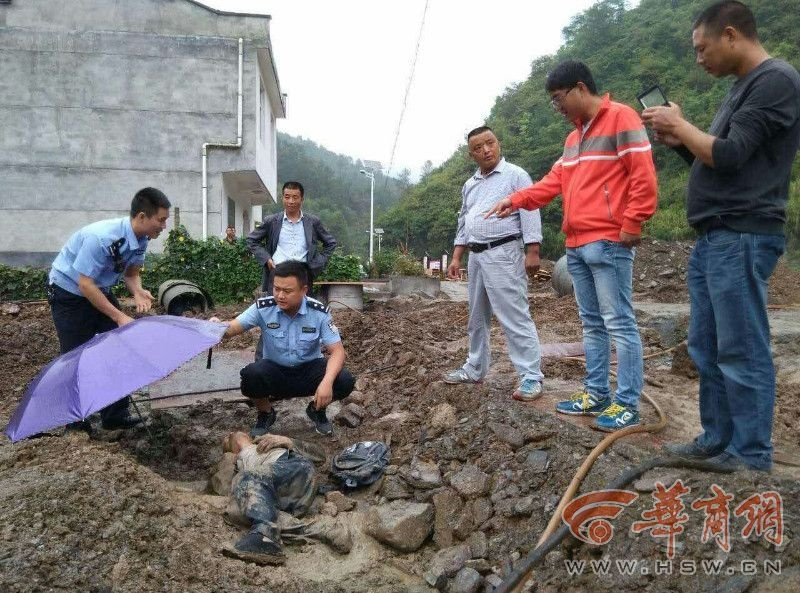falling: (197, 410, 351, 569)
